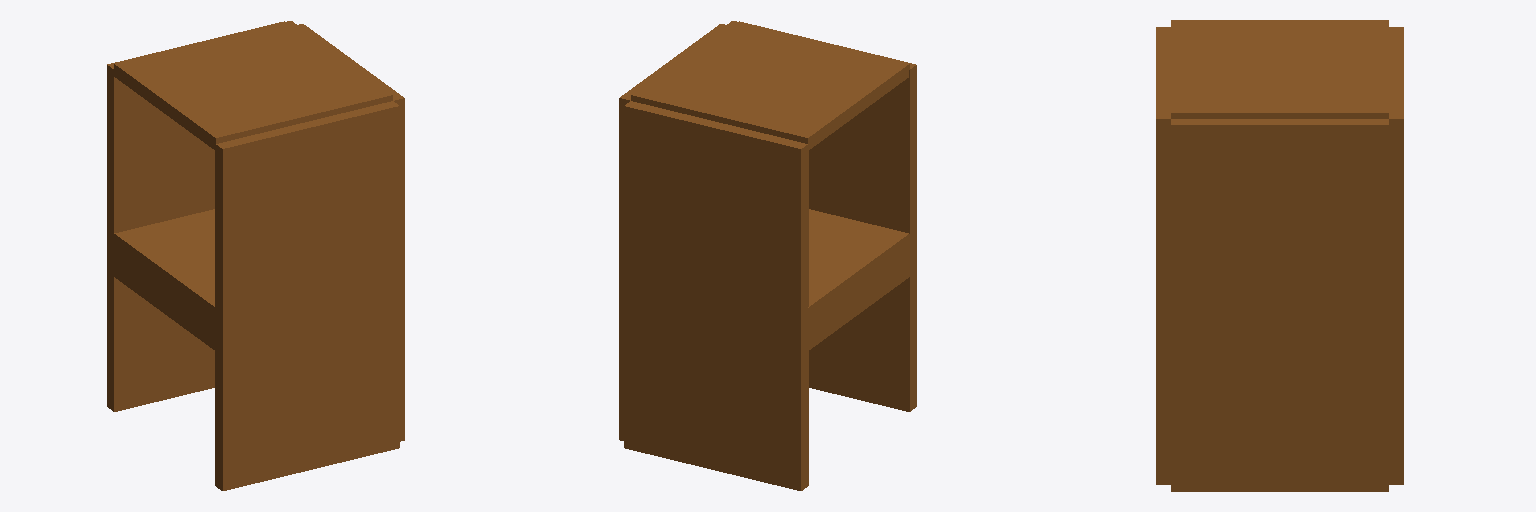
The robot description file, URDF, robot "dummy":
<?xml version="1.0"?>
<robot name="dummy">
  <link name="bottom_wall">
    <visual>
      <origin xyz="0.0 0.0 0.1653426977070081" rpy="0 0 0"/>
      <geometry>
        <mesh filename="bottom_wall.obj" scale="1 1 1"/>
      </geometry>
      <material name="brown">
        <color rgba="0.6 0.4 0.2 1.0"/>
      </material>
    </visual>
    <collision>
      <origin xyz="0.0 0.0 0.1653426977070081" rpy="0 0 0"/>
      <geometry>
        <mesh filename="bottom_wall.obj" scale="1 1 1"/>
      </geometry>
    </collision>
  </link>

  <link name="left_wall">
    <visual>
      <origin xyz="0.0 -0.11991504826989577 0.0" rpy="0 0 0"/>
      <geometry>
        <mesh filename="vertical_wall.obj" scale="1 1 1"/>
      </geometry>
      <material name="brown">
        <color rgba="0.6 0.4 0.2 1.0"/>
      </material>
    </visual>
    <collision>
      <origin xyz="0.0 -0.11991504826989577 0.0" rpy="0 0 0"/>
      <geometry>
        <mesh filename="vertical_wall.obj" scale="1 1 1"/>
      </geometry>
    </collision>
  </link>

  <link name="right_wall">
    <visual>
      <origin xyz="0.0 0.11991504826989577 0.0" rpy="0 0 0"/>
      <geometry>
        <mesh filename="vertical_wall.obj" scale="1 1 1"/>
      </geometry>
      <material name="brown">
        <color rgba="0.6 0.4 0.2 1.0"/>
      </material>
    </visual>
    <collision>
      <origin xyz="0.0 0.11991504826989577 0.0" rpy="0 0 0"/>
      <geometry>
        <mesh filename="vertical_wall.obj" scale="1 1 1"/>
      </geometry>
    </collision>
  </link>

  <link name="back_wall">
    <visual>
      <origin xyz="0.12034743791714586 0.0 0.0" rpy="0 0 0"/>
      <geometry>
        <mesh filename="back_wall.obj" scale="1 1 1"/>
      </geometry>
      <material name="brown">
        <color rgba="0.6 0.4 0.2 1.0"/>
      </material>
    </visual>
    <collision>
      <origin xyz="0.12034743791714586 0.0 0.0" rpy="0 0 0"/>
      <geometry>
        <mesh filename="back_wall.obj" scale="1 1 1"/>
      </geometry>
    </collision>
  </link>

  <link name="top_wall">
    <visual>
      <origin xyz="0.0 0.0 0.40971620064758624" rpy="0 0 0"/>
      <geometry>
        <mesh filename="top_wall.obj" scale="1 1 1"/>
      </geometry>
      <material name="brown">
        <color rgba="0.6 0.4 0.2 1.0"/>
      </material>
    </visual>
    <collision>
      <origin xyz="0.0 0.0 0.40971620064758624" rpy="0 0 0"/>
      <geometry>
        <mesh filename="top_wall.obj" scale="1 1 1"/>
      </geometry>
    </collision>
  </link>

  <joint name="left_wall_joint" type="fixed">
    <origin xyz="0 0 0" rpy="0 0 0"/>
    <parent link="bottom_wall"/>
    <child link="left_wall"/>
  </joint>

  <joint name="right_wall_joint" type="fixed">
    <origin xyz="0 0 0" rpy="0 0 0"/>
    <parent link="bottom_wall"/>
    <child link="right_wall"/>
  </joint>

  <joint name="back_wall_joint" type="fixed">
    <origin xyz="0 0 0" rpy="0 0 0"/>
    <parent link="bottom_wall"/>
    <child link="back_wall"/>
  </joint>

  <joint name="top_wall_joint" type="fixed">
    <origin xyz="0 0 0" rpy="0 0 0"/>
    <parent link="bottom_wall"/>
    <child link="top_wall"/>
  </joint>

</robot>

--- Facts derived from the render (not from the file) ---
Views: 3 orthographic renders of the robot side by side, from view 1: azimuth 30°, elevation 25°; view 2: azimuth 150°, elevation 25°; view 3: azimuth 270°, elevation 25°.
Model dummy with 5 links and 4 joints (4 fixed), rooted at bottom_wall, posed all joints at 0.
Visible links, largest first — view 1: left_wall, right_wall, top_wall, bottom_wall, back_wall; view 2: right_wall, left_wall, top_wall, bottom_wall, back_wall; view 3: back_wall, top_wall, left_wall, right_wall.
Link boxes in pixels (x1,y1,x2,y2): left_wall: (215, 101, 399, 490); right_wall: (107, 21, 284, 411); top_wall: (114, 21, 392, 149); bottom_wall: (114, 209, 215, 350); back_wall: (298, 24, 404, 441); right_wall: (624, 101, 808, 490); left_wall: (739, 21, 916, 411); top_wall: (631, 21, 909, 149); bottom_wall: (808, 209, 909, 350); back_wall: (619, 24, 725, 440); back_wall: (1171, 119, 1388, 491); top_wall: (1171, 20, 1388, 118); left_wall: (1156, 27, 1170, 484); right_wall: (1389, 27, 1403, 484).
Bounding box of the posed robot: 0.242 × 0.2561 × 0.4256 m (x, y, z).
Meshes: 4 distinct files referenced, 5 mesh visuals loaded (4 OBJ).
